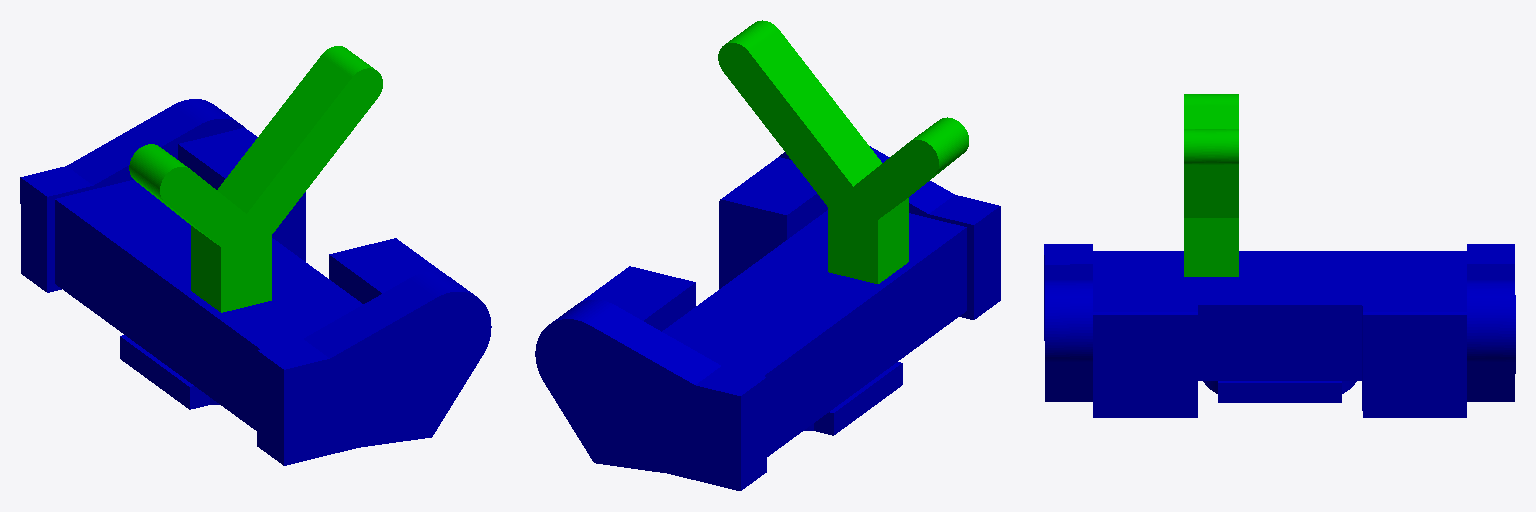
robot.urdf — dyros_assembly_gripper:
<?xml version="1.0" encoding="utf-8"?>
<!-- =================================================================================== -->
<!-- |    This document was autogenerated by xacro from dyros_assembly_gripper.urdf.xacro | -->
<!-- |    EDITING THIS FILE BY HAND IS NOT RECOMMENDED                                 | -->
<!-- =================================================================================== -->
<robot name="dyros_assembly_gripper">
  <link name="panda_right_hand">
    <visual>
      <origin rpy="-1.57 0 -1.57" xyz="0 0 0"/>
      <geometry>
        <mesh filename="package://assembly_env_description/meshes/gripper_base.stl" scale="0.001 0.001 0.001"/>
      </geometry>
      <material name="blue">
        <color rgba="0 0 0.8 1"/>
      </material>
    </visual>
    <inertial>
      <mass value="0.55"/>
      <inertia ixx="0.0014362" ixy="0.000013" ixz="-0.0000278" iyy="0.00077" iyz="-0.0000897" izz="0.001039"/>
    </inertial>
  </link>
  <joint name="panda_right_finger_joint" type="prismatic">
    <parent link="panda_right_hand"/>
    <child link="panda_right_finger"/>
    <origin rpy="0 0 0" xyz="-0.01175 -0.0165 +0.0685"/>
    <axis xyz="0 1 0"/>
    <limit effort="1000000" lower="0.0" upper="0.15" velocity="1000000"/>
  </joint>
  <link name="panda_right_finger">
    <visual>
      <origin rpy="-1.57 0 -1.57" xyz="0 0 0"/>
      <geometry>
        <mesh filename="package://assembly_env_description/meshes/gripper_moving_tip.stl" scale="0.001 0.001 0.001"/>
      </geometry>
      <material name="green">
        <color rgba="0 0.8 0 1"/>
      </material>
    </visual>
  </link>
</robot>

--- Facts derived from the render (not from the file) ---
3 views of the same robot in one strip: view 1: azimuth 30°, elevation 25°; view 2: azimuth 150°, elevation 25°; view 3: azimuth 270°, elevation 25° (orthographic).
Model dyros_assembly_gripper with 2 links and 1 joints (1 prismatic), rooted at panda_right_hand, posed all joints at 0.
Links seen in each view (by area): view 1: panda_right_hand, panda_right_finger; view 2: panda_right_hand, panda_right_finger; view 3: panda_right_hand, panda_right_finger.
Link boxes in pixels (left/top/right/bottom): panda_right_hand: left=20, top=99, right=491, bottom=465; panda_right_finger: left=129, top=46, right=382, bottom=312; panda_right_hand: left=535, top=146, right=1000, bottom=490; panda_right_finger: left=718, top=20, right=968, bottom=283; panda_right_hand: left=1044, top=244, right=1515, bottom=417; panda_right_finger: left=1184, top=94, right=1238, bottom=276.
Bounding box of the posed robot: 0.1049 × 0.1886 × 0.1251 m (x, y, z).
2 mesh visuals loaded from 2 distinct referenced files (2 binary STL).